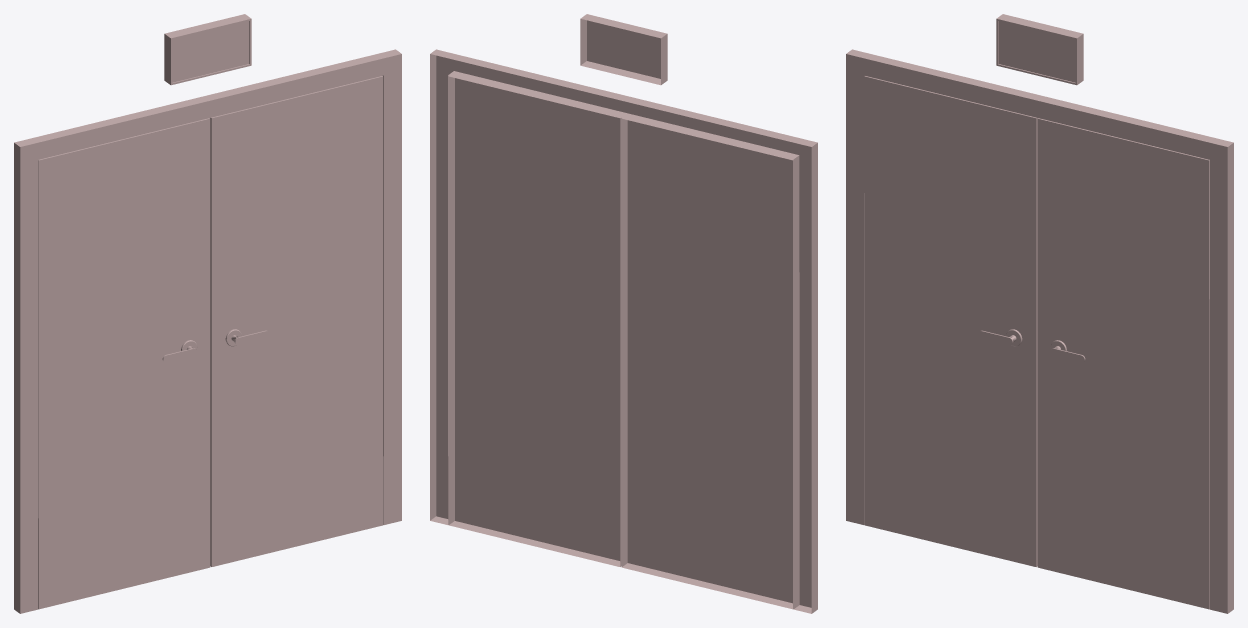
File: Doors.fbx
The picture shows the model from 3 angles, left to right: view 1: azimuth 30°, elevation 25°; view 2: azimuth 150°, elevation 25°; view 3: azimuth 330°, elevation 25°; orthographic projection.
Visible parts, largest first — view 1: Doors; view 2: Doors; view 3: Doors.
Part boxes in pixels (bbox=[...]): Doors: bbox=[14, 14, 401, 613]; Doors: bbox=[430, 14, 817, 613]; Doors: bbox=[846, 14, 1233, 613].
Bounding box in the file's own units: 178 × 240 × 9.41.
